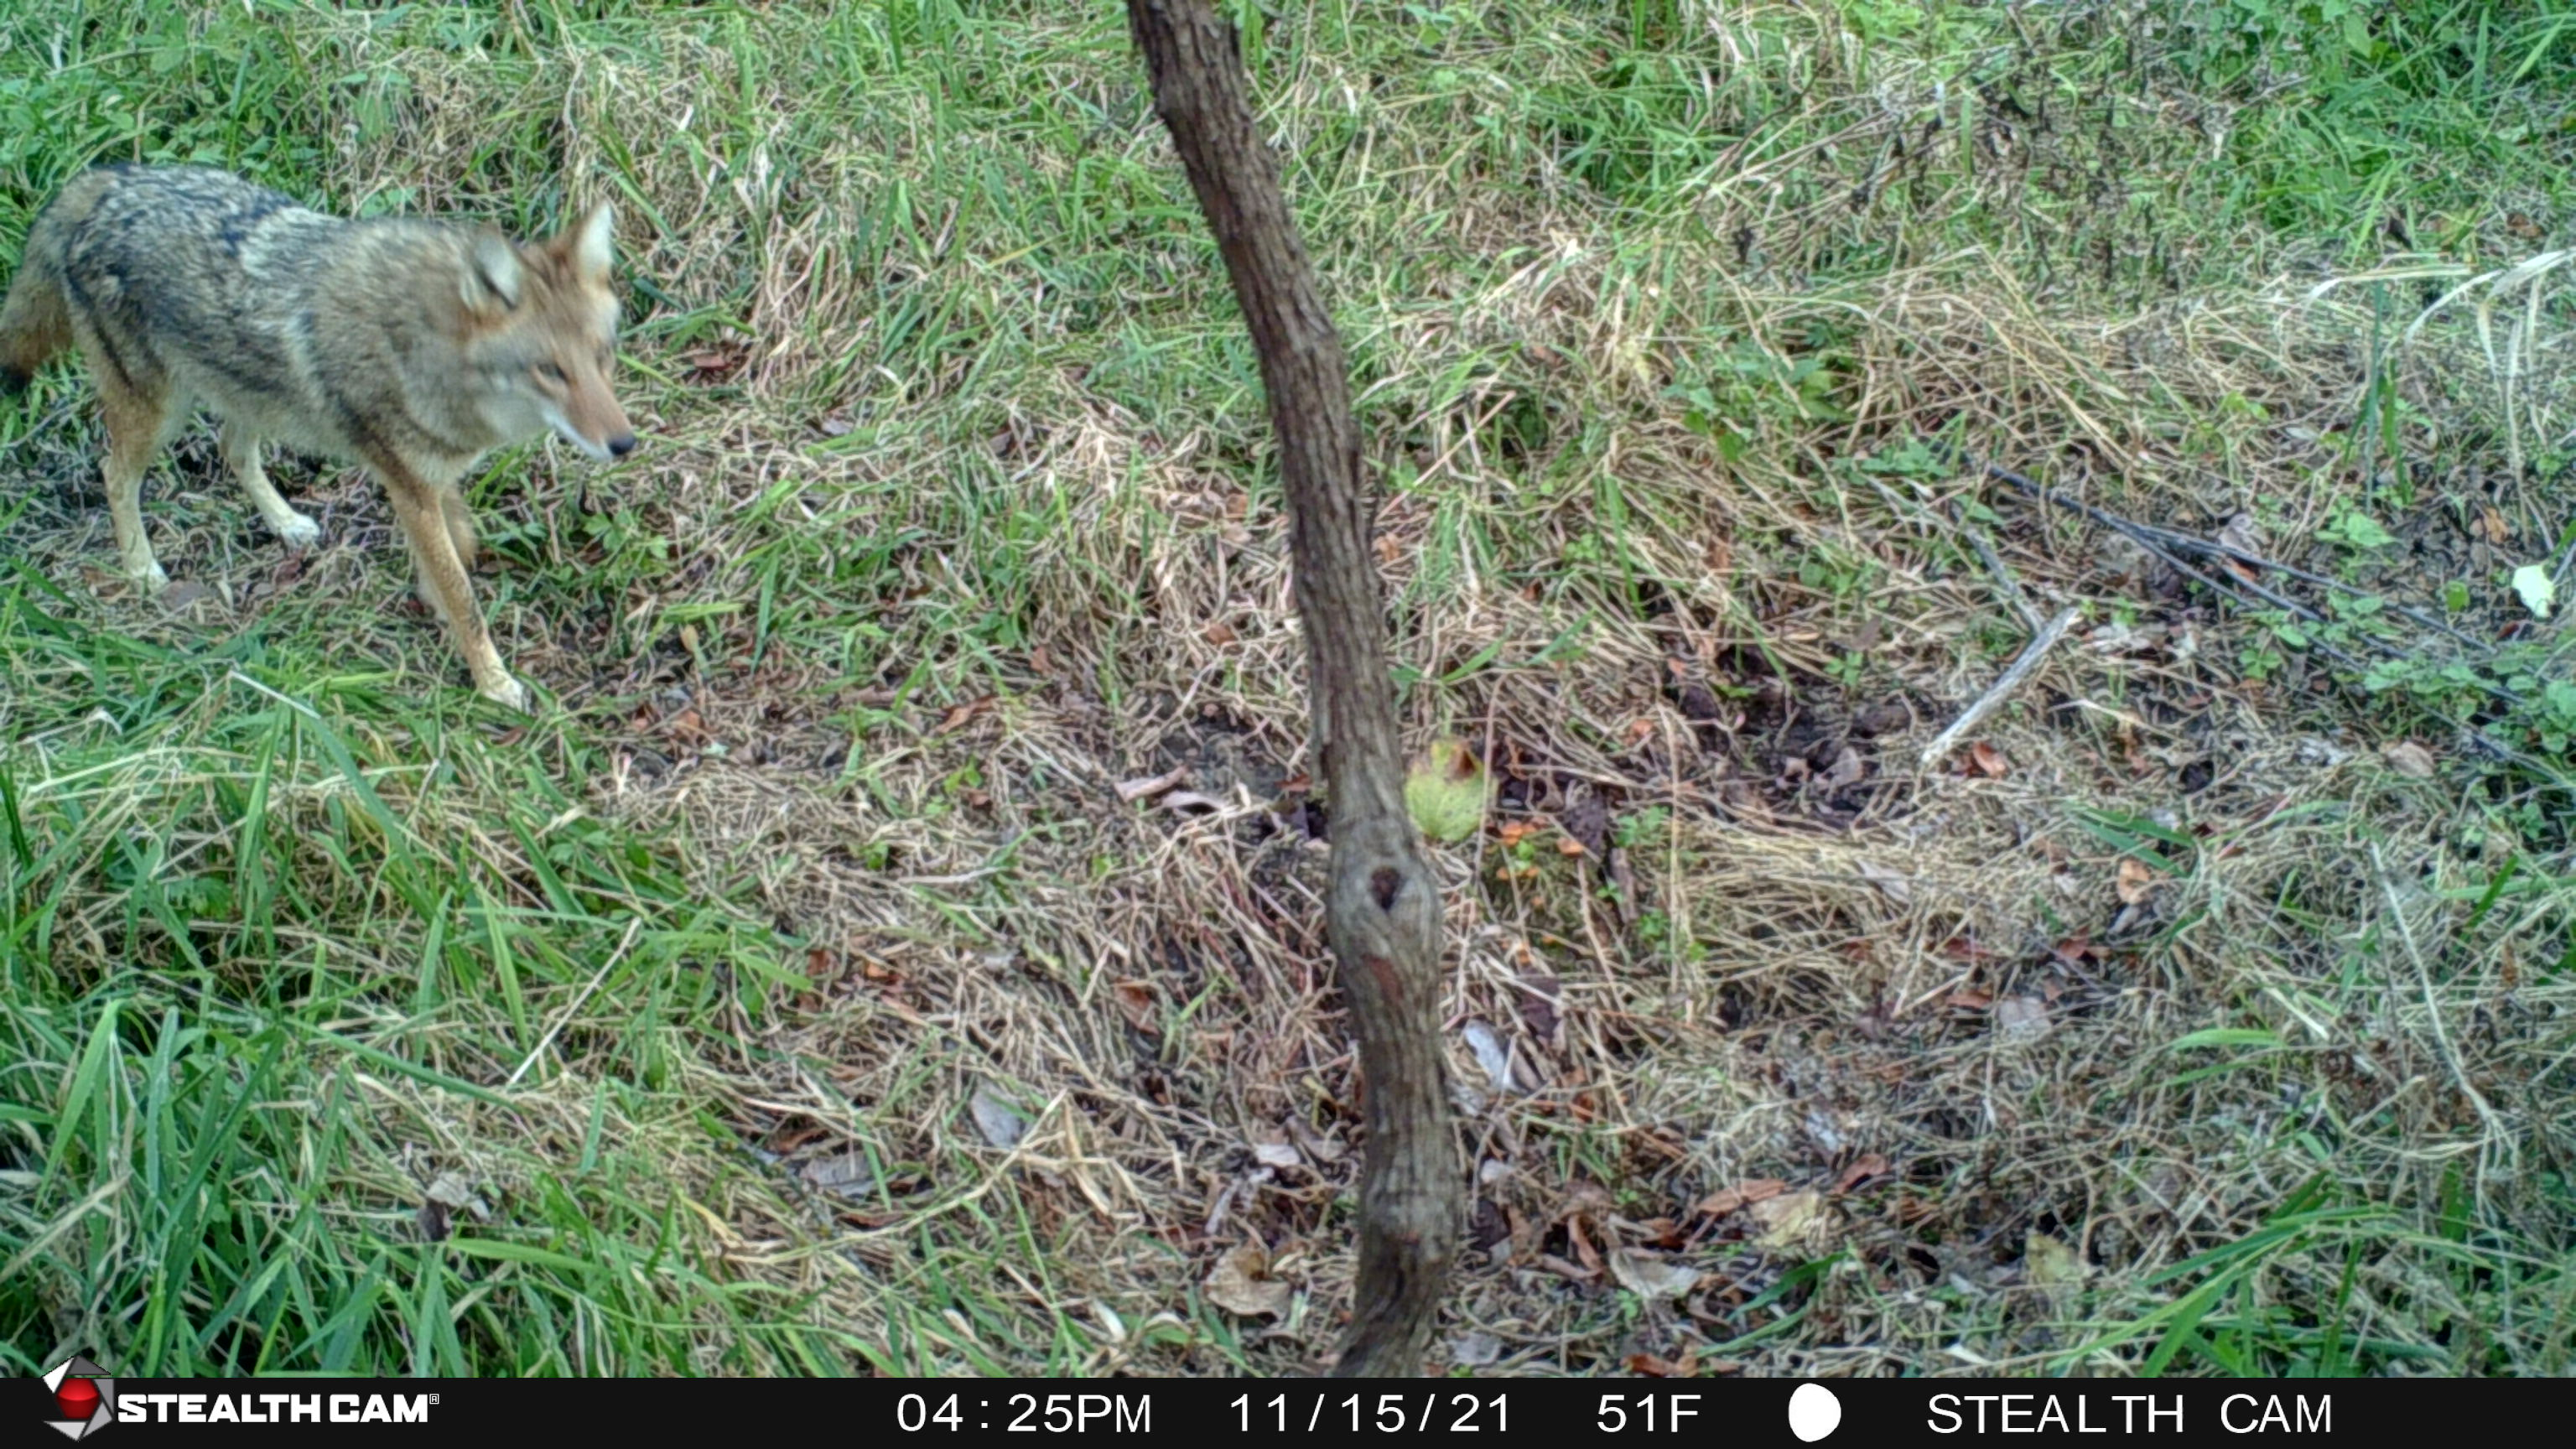Coyote: (2, 157, 640, 708)
